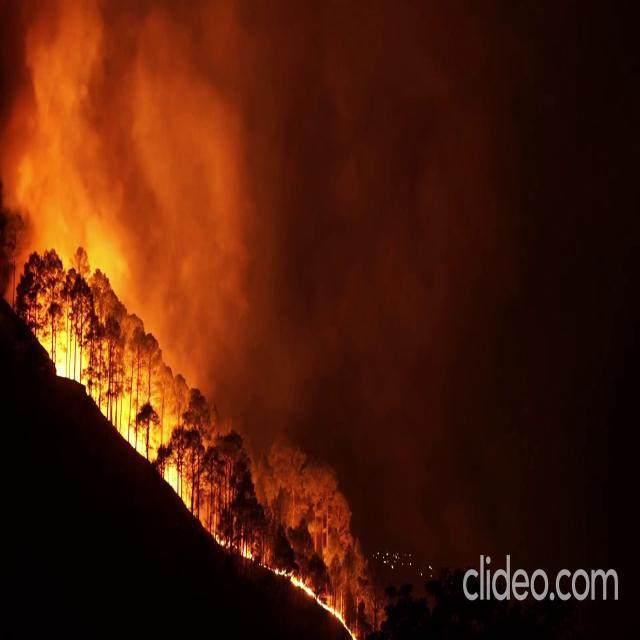Fire: (40, 306, 90, 398), (110, 383, 156, 465), (290, 566, 346, 633), (164, 447, 194, 525)
Smoke: (2, 1, 518, 490)
